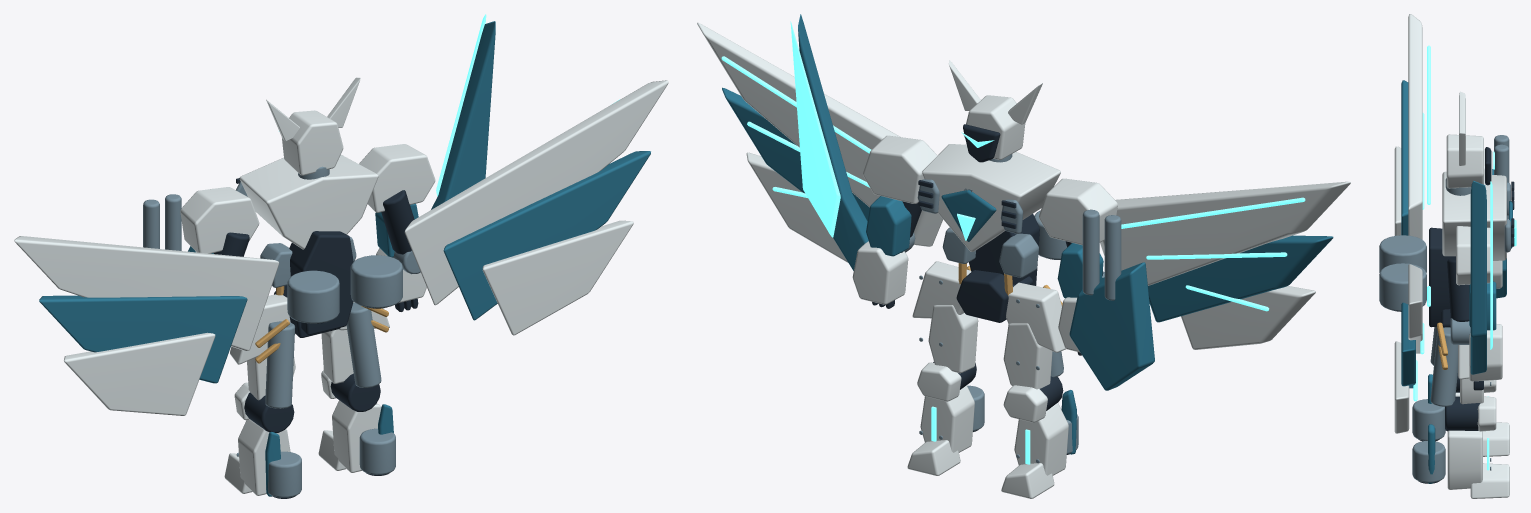
File: AstraFrame.fbx
3 views of the same model, side by side, from view 1: azimuth 30°, elevation 25°; view 2: azimuth 150°, elevation 25°; view 3: azimuth 270°, elevation 25° (orthographic). The views are drawn at different scales.
Visible parts, largest first — view 1: Vector feather.003, Vector feather, Vector feather.004, Vector feather.001, Vector feather.005, Vector feather.002, Falcon breastplate, Skyrazor blade frame, Aerodynamic pauldron, Aerodynamic pauldron.001, Reactor keel, Helmet crown (+18 smaller); view 2: Vector feather, Vector feather.003, Aegis arm shield, Vector feather.001, Falcon breastplate, Vector feather.002, Luminous cutting edge, Skyrazor blade frame, Aerodynamic pauldron.001, Aerodynamic pauldron, Vector feather.005, Vector feather.004 (+23 smaller); view 3: Vector feather, Skyrazor blade frame, Falcon breastplate, Split greave.001, Helmet crown, Reactor keel, Hip actuator.001, Engine titanium lip.001, Engine titanium lip, Vector feather.001, Vector feather.003, Engine titanium lip.003 (+29 smaller).
Boxes of the visible parts, bbox=[...] form: Vector feather.003: bbox=[404, 80, 668, 305]; Vector feather: bbox=[14, 236, 279, 350]; Vector feather.004: bbox=[443, 151, 650, 320]; Vector feather.001: bbox=[39, 295, 247, 383]; Vector feather.005: bbox=[482, 220, 633, 335]; Vector feather.002: bbox=[64, 332, 215, 415]; Falcon breastplate: bbox=[239, 154, 378, 249]; Skyrazor blade frame: bbox=[431, 21, 495, 209]; Aerodynamic pauldron: bbox=[180, 187, 259, 253]; Aerodynamic pauldron.001: bbox=[359, 144, 435, 212]; Reactor keel: bbox=[289, 231, 353, 335]; Helmet crown: bbox=[282, 110, 343, 175]; Vector feather: bbox=[1100, 181, 1350, 285]; Vector feather.003: bbox=[697, 22, 942, 246]; Aegis arm shield: bbox=[1069, 262, 1154, 390]; Vector feather.001: bbox=[1148, 235, 1333, 322]; Falcon breastplate: bbox=[922, 144, 1060, 251]; Vector feather.002: bbox=[1181, 286, 1315, 349]; Luminous cutting edge: bbox=[790, 21, 840, 237]; Skyrazor blade frame: bbox=[798, 14, 868, 270]; Aerodynamic pauldron.001: bbox=[863, 135, 937, 203]; Aerodynamic pauldron: bbox=[1039, 178, 1117, 245]; Vector feather.005: bbox=[746, 152, 848, 262]; Vector feather.004: bbox=[722, 87, 869, 220]; Vector feather: bbox=[1408, 14, 1422, 239]; Skyrazor blade frame: bbox=[1470, 180, 1486, 374]; Falcon breastplate: bbox=[1442, 171, 1506, 260]; Split greave.001: bbox=[1447, 430, 1482, 489]; Helmet crown: bbox=[1446, 134, 1483, 188]; Reactor keel: bbox=[1429, 227, 1455, 327]; Hip actuator.001: bbox=[1430, 327, 1457, 406]; Engine titanium lip.001: bbox=[1379, 263, 1426, 311]; Engine titanium lip: bbox=[1379, 235, 1426, 272]; Vector feather.001: bbox=[1401, 80, 1408, 235]; Vector feather.003: bbox=[1408, 264, 1422, 353]; Engine titanium lip.003: bbox=[1412, 440, 1445, 482].
Bounding box in the file's own units: 661 × 397 × 133.
